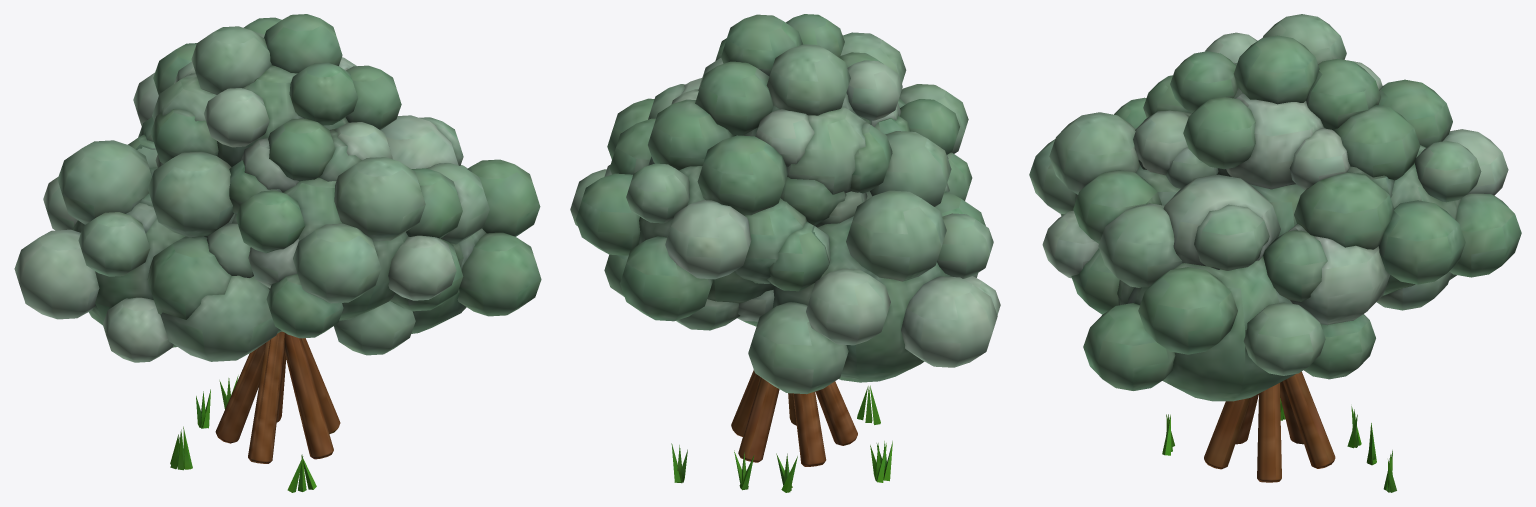
The model's file is sea_buckthorn_tree.glb.
The picture shows the model from 3 angles, left to right: view 1: azimuth 30°, elevation 25°; view 2: azimuth 150°, elevation 25°; view 3: azimuth 270°, elevation 25°; orthographic projection. The views are drawn at different scales.
Visible parts, largest first — view 1: crown, sea_buckthorn_tree; view 2: crown, sea_buckthorn_tree; view 3: crown, sea_buckthorn_tree.
Part boxes in pixels (x1,y1,x2,y2): crown: [14, 14, 541, 362]; sea_buckthorn_tree: [170, 331, 340, 492]; crown: [570, 14, 1000, 394]; sea_buckthorn_tree: [671, 370, 892, 492]; crown: [1029, 14, 1521, 401]; sea_buckthorn_tree: [1162, 371, 1396, 492].
Bounding box in the file's own units: 1.14 × 1.04 × 1.06.
1 material, 1 textured.
